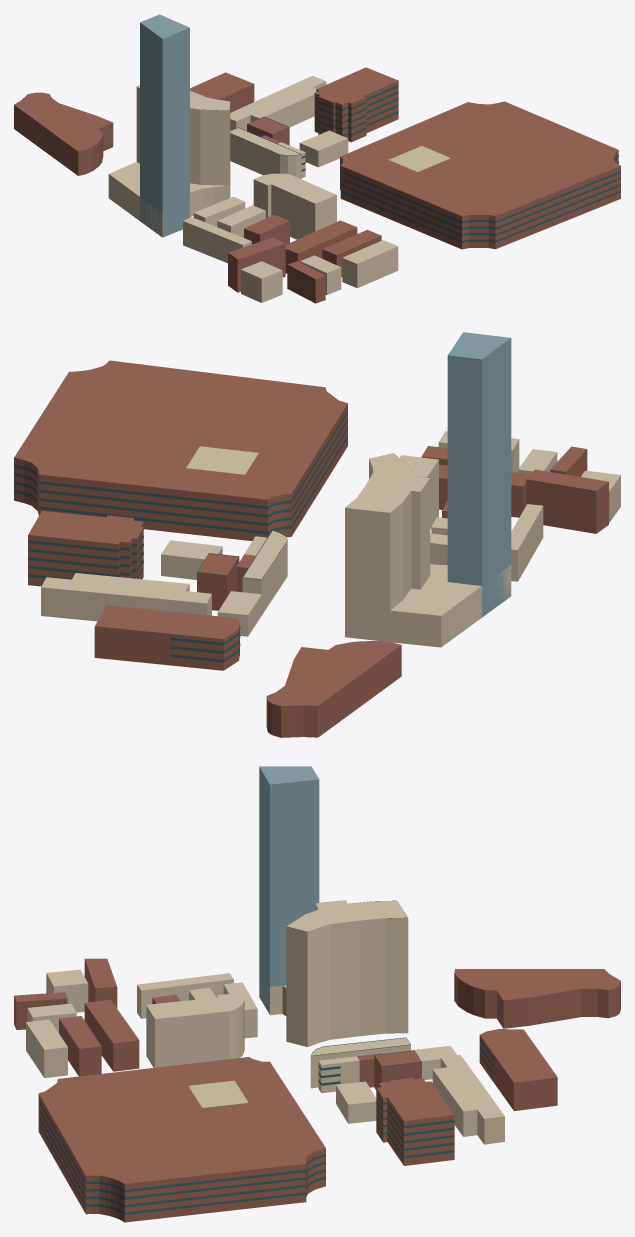
The model's file is city_-4_-1.glb.
The picture shows the model from 3 angles, top to bottom: view 1: azimuth 30°, elevation 25°; view 2: azimuth 150°, elevation 25°; view 3: azimuth 270°, elevation 25°; orthographic projection. The views are drawn at different scales.
Visible parts, largest first — view 1: city_-4_-1; view 2: city_-4_-1; view 3: city_-4_-1.
Part boxes in pixels (x1,y1,x2,y2): city_-4_-1: (14, 14, 620, 303); city_-4_-1: (14, 332, 620, 737); city_-4_-1: (14, 766, 620, 1222).
Size of the model in its own units: 257 by 122 by 292.
